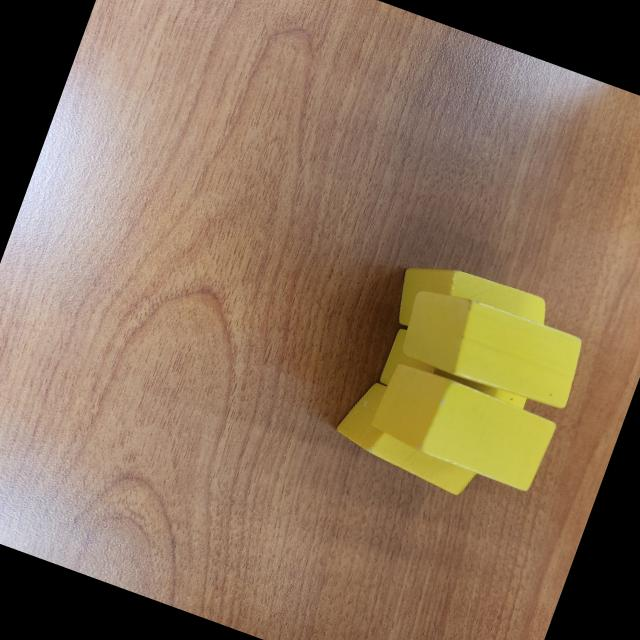yellow: (364, 358, 562, 496), (392, 280, 590, 416), (328, 373, 496, 501), (387, 250, 555, 372), (374, 326, 536, 434)
